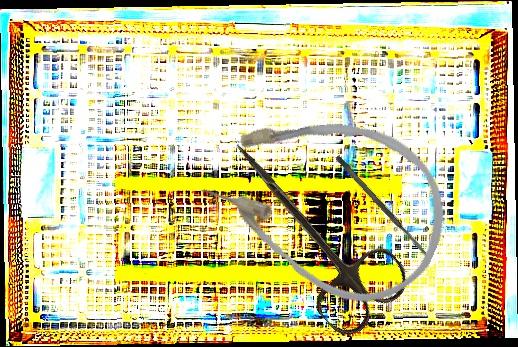Cannula: (182, 75, 471, 327)
Iris Scissors: (198, 116, 417, 344)
Spatula Surgical: (334, 153, 432, 262)
